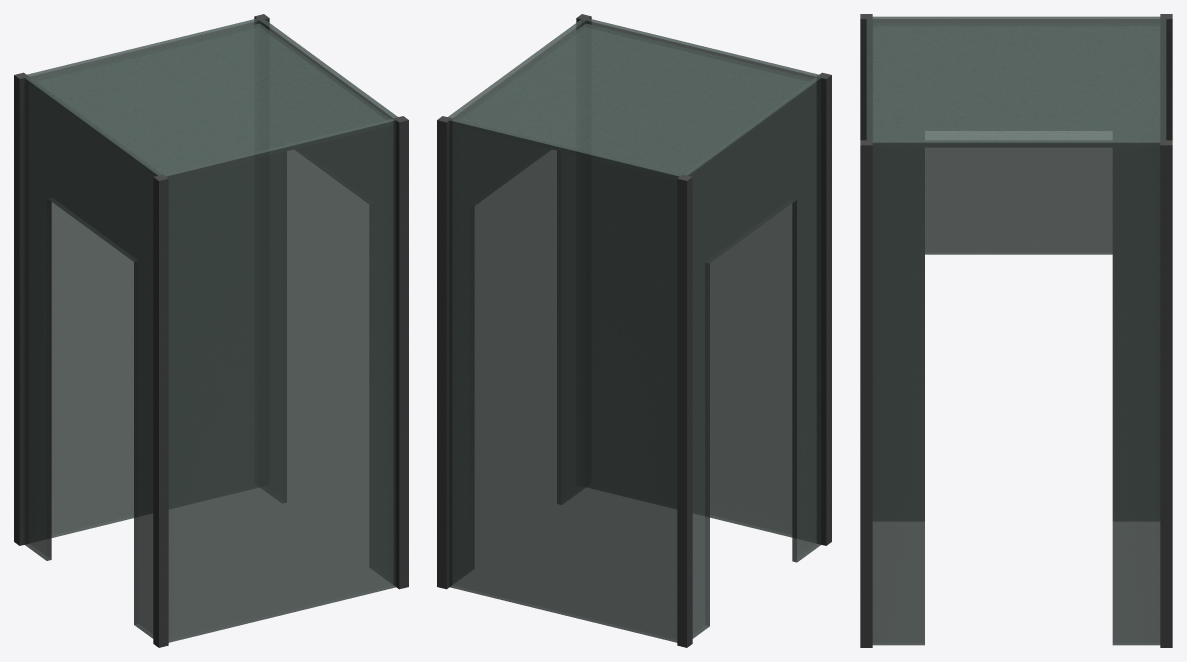
Rendered from cabinet.serva.155.obj.
3 views of the same model, side by side, from view 1: azimuth 30°, elevation 25°; view 2: azimuth 150°, elevation 25°; view 3: azimuth 270°, elevation 25° (orthographic). The views are drawn at different scales.
Parts seen in each view (by area): view 1: Box11, Box06; view 2: Box11, Box06; view 3: Box11, Box06.
Part boxes in pixels (x1,y1,x2,y2): Box11: (24,18,397,642); Box06: (14,14,408,647); Box11: (448,18,821,642); Box06: (437,14,831,647); Box11: (866,16,1166,645); Box06: (860,14,1172,647).
Bounding box in the file's own units: 205 × 365 × 205.
